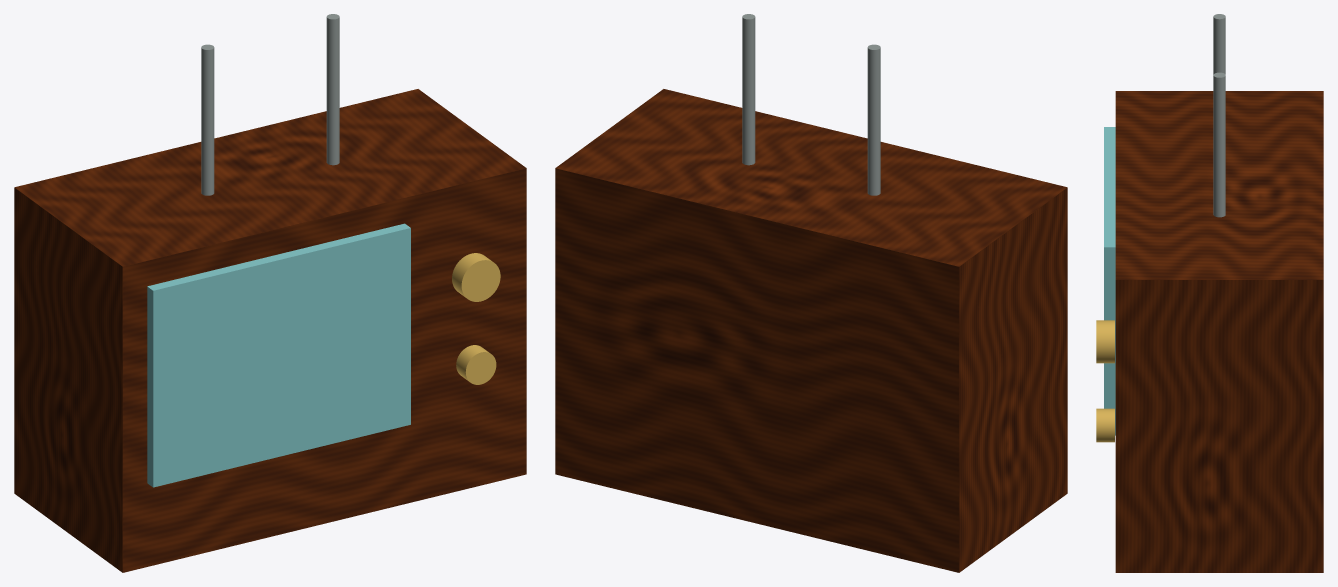
The model's file is television.glb.
The picture shows the model from 3 angles, left to right: view 1: azimuth 30°, elevation 25°; view 2: azimuth 150°, elevation 25°; view 3: azimuth 270°, elevation 25°; orthographic projection. The views are drawn at different scales.
Bounding box in the file's own units: 2.9 × 3.1 × 1.48.
4 materials, 1 textured.
